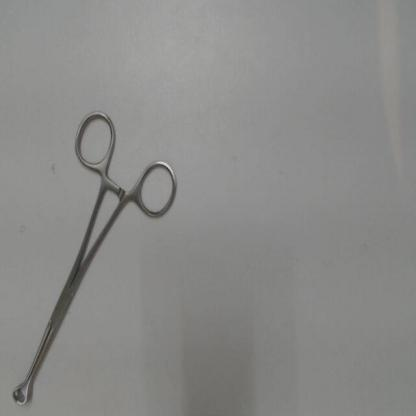Babcock Tissue Forceps: (9, 107, 183, 412)
